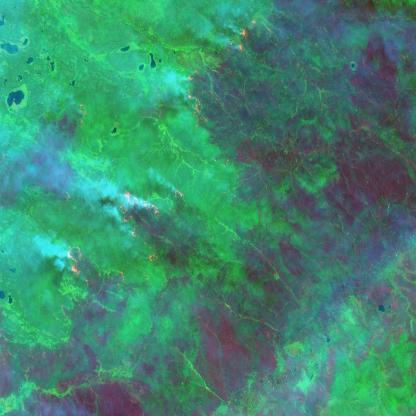fire: (115, 172, 187, 269), (181, 62, 214, 135), (60, 241, 98, 293), (232, 12, 270, 61)
